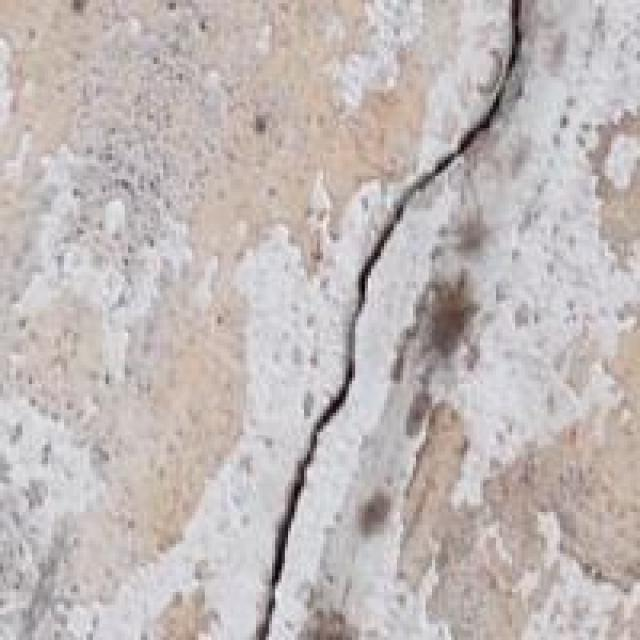Crack: (243, 0, 528, 637)
